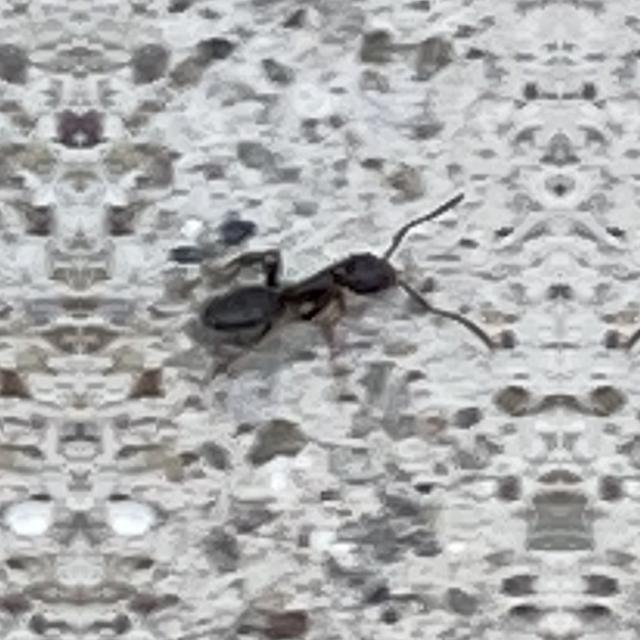Tapinoma: (173, 192, 449, 394)
